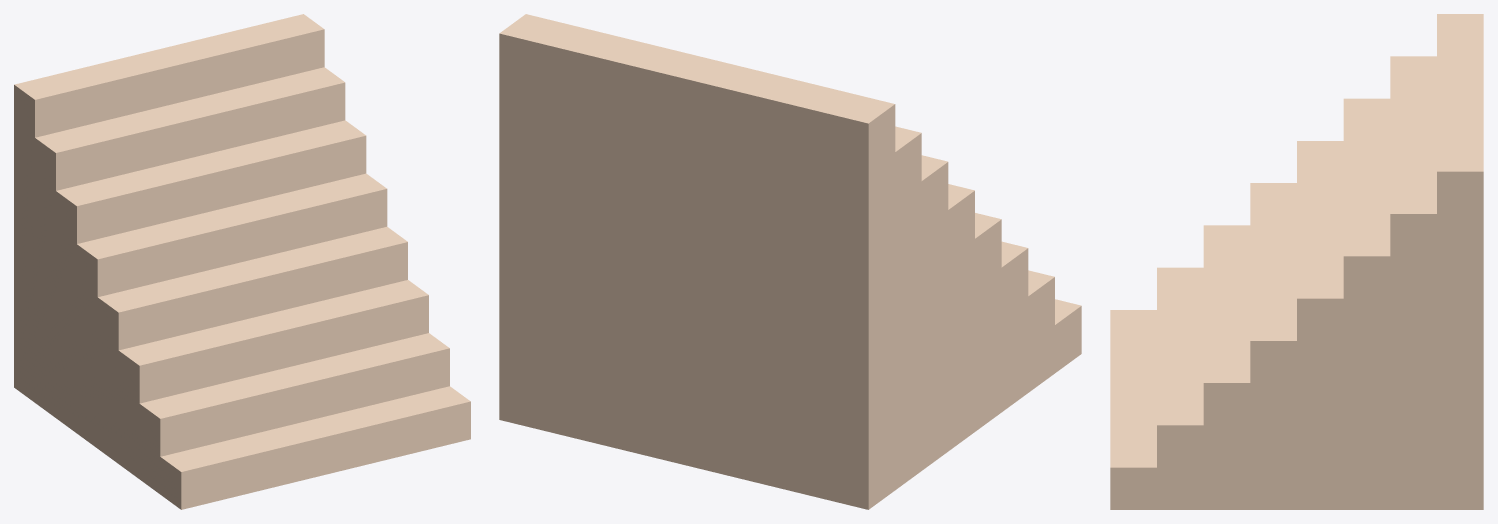
File: Abstract_Castle_Block_1_Unit_Beige_Stairs_Full_01.fbx
3 views of the same model, side by side, from view 1: azimuth 30°, elevation 25°; view 2: azimuth 150°, elevation 25°; view 3: azimuth 270°, elevation 25° (orthographic). The views are drawn at different scales.
Parts seen in each view (by area): view 1: Model; view 2: Model; view 3: Model.
Part boxes in pixels (x1=…): Model: x1=14, y1=14, x2=470, y2=509; Model: x1=499, y1=14, x2=1081, y2=509; Model: x1=1110, y1=14, x2=1483, y2=509.
Bounding box in the file's own units: 1000 × 1000 × 1000.
